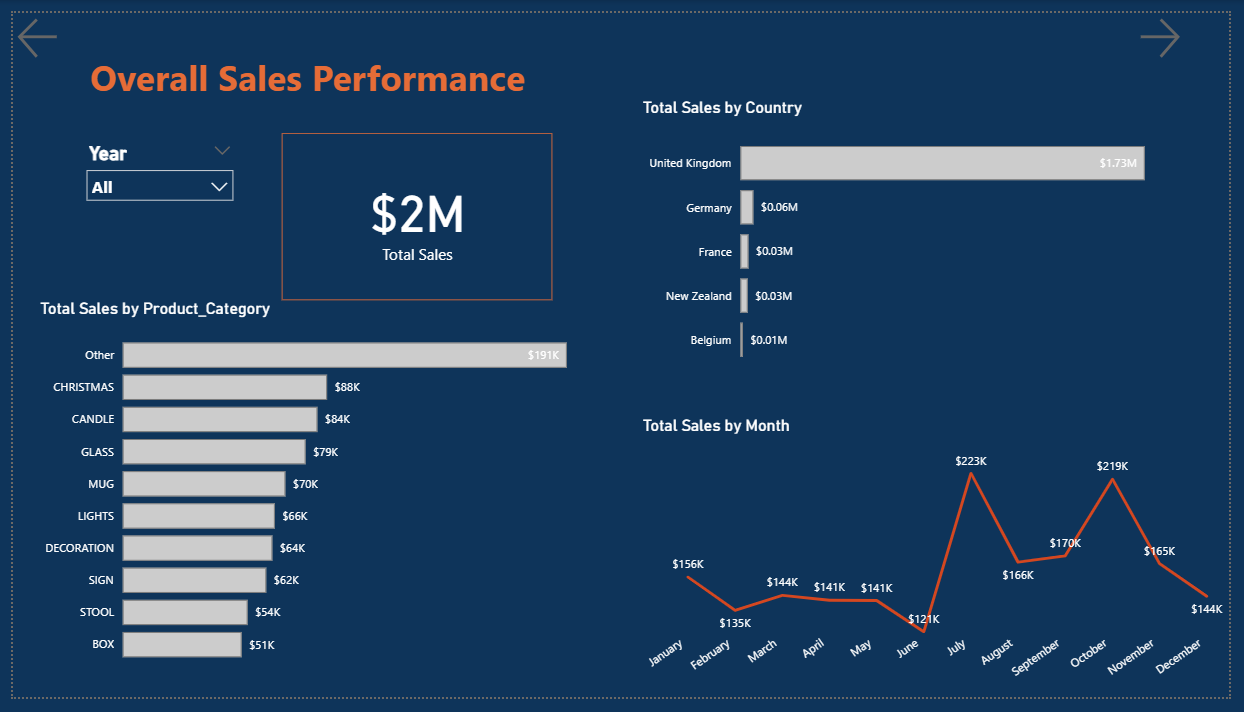

The page's visual inventory and layout, read from the dashboard file:
{"tool":"powerbi","page":{"name":"Overall Performance","canvas":[1280,720],"ordinal":1},"visuals":[{"type":"lineChart","fields":{"Y":["Sales.Total Sales"],"Category":["Date.Month"]},"box":[657.5,423.8,623.8,297.5],"z":0},{"type":"slicer","fields":{"Values":["Date.Year"]},"box":[67.2,130.8,174.8,238.4],"z":1000},{"type":"actionButton","box":[1179.7,0,100.3,52.9],"z":2000},{"type":"actionButton","box":[0,0,100.3,52.9],"z":3000},{"type":"clusteredBarChart","fields":{"Category":["Invoice.Country"],"Y":["Sales.Total Sales"]},"box":[657.5,90,572.5,297.5],"z":4000},{"type":"textbox","box":[76.2,36.2,536.2,77.5],"z":5000},{"type":"clusteredBarChart","fields":{"Category":["Product.Product_Category"],"Y":["Sales.Total Sales"]},"box":[23.2,301.9,603.9,396.1],"z":6000},{"type":"card","fields":{"Values":["Sales.Total Sales"]},"box":[282.4,125.9,284.8,176],"z":7000}]}

Visuals, with their boxes in screenshot pixels (x1, y1, x2, y2), scaled from the page's 1280x720 canvas onto the 1244x712 screenshot:
lineChart - Sales.Total Sales x Date.Month: box(639, 419, 1243, 711)
slicer - Date.Year: box(65, 129, 235, 365)
actionButton: box(1147, 0, 1243, 52)
actionButton: box(0, 0, 97, 52)
clusteredBarChart - Invoice.Country x Sales.Total Sales: box(639, 89, 1195, 383)
textbox: box(74, 36, 595, 112)
clusteredBarChart - Product.Product_Category x Sales.Total Sales: box(23, 299, 609, 690)
card - Sales.Total Sales: box(274, 125, 551, 299)
